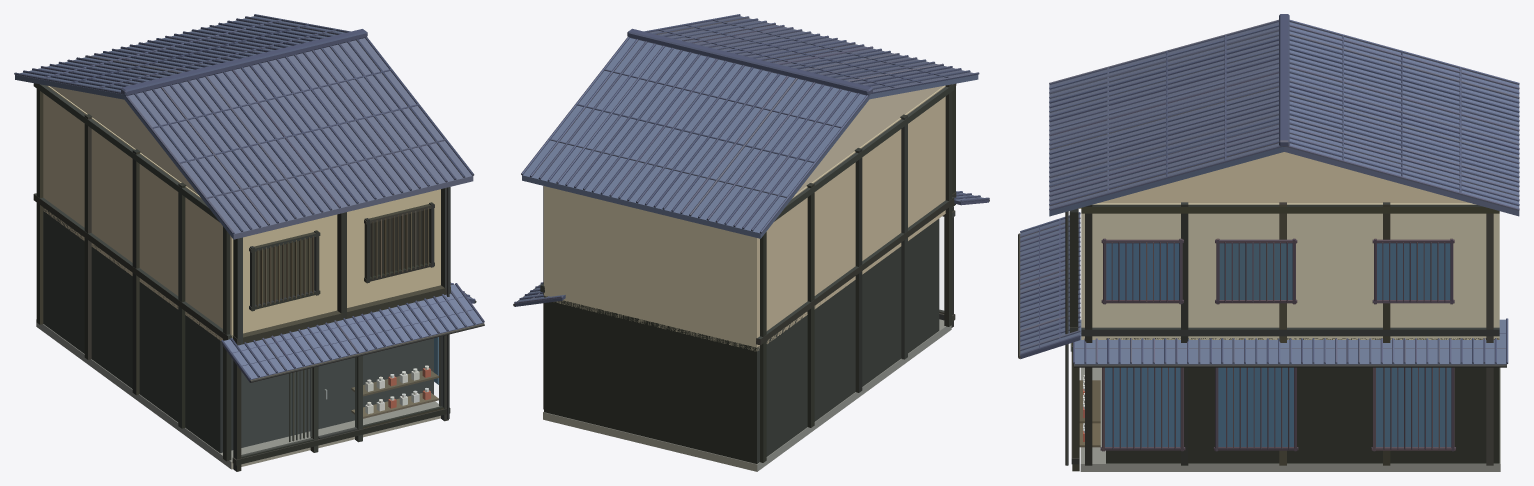
The model's file is ART_CornerShop.glb.
3 renders of one model, left to right at view 1: azimuth 30°, elevation 25°; view 2: azimuth 150°, elevation 25°; view 3: azimuth 270°, elevation 25°, orthographic. The views are drawn at different scales.
Parts seen in each view (by area): view 1: ART_CornerShop; view 2: ART_CornerShop; view 3: ART_CornerShop.
Boxes of the visible parts, box(x1,y1,x2,y2) form: ART_CornerShop: box(14, 14, 484, 471); ART_CornerShop: box(513, 14, 989, 471); ART_CornerShop: box(1018, 14, 1519, 471).
Size of the model in its own units: 6.46 by 7.59 by 10.19.
